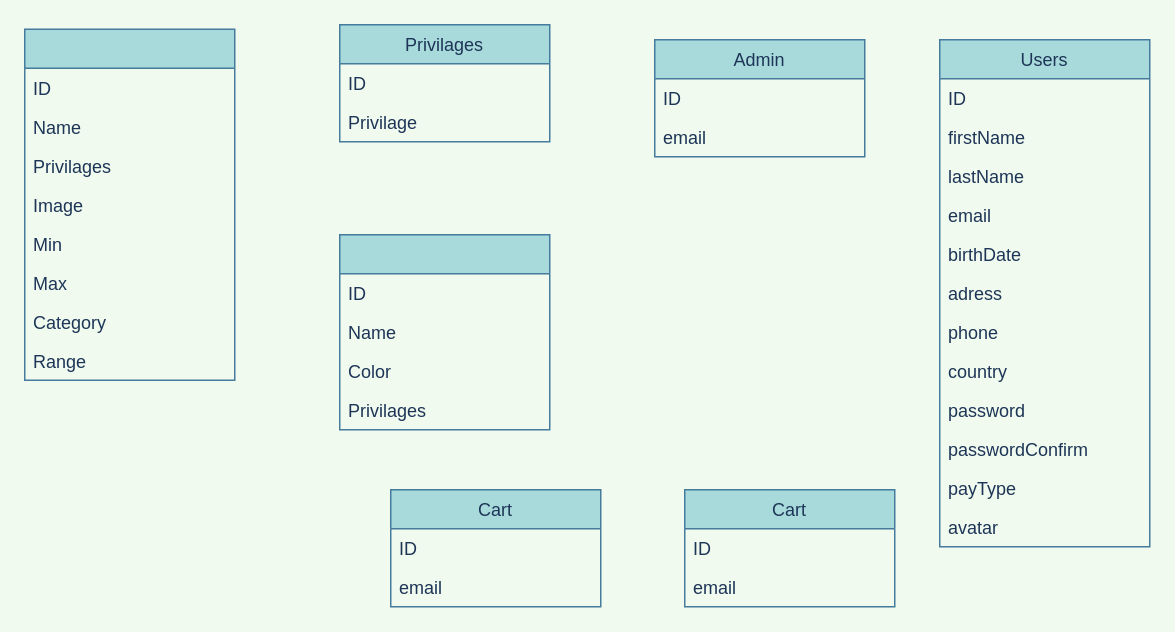
The diagram is 1175 pixels wide and 632 high, and some of its shapes have lost their labels. Here are the shapes that lost their labels. From the top down, the box of each, then its label:
(23, 28, 235, 380): Products
(338, 233, 550, 430): Categorys
